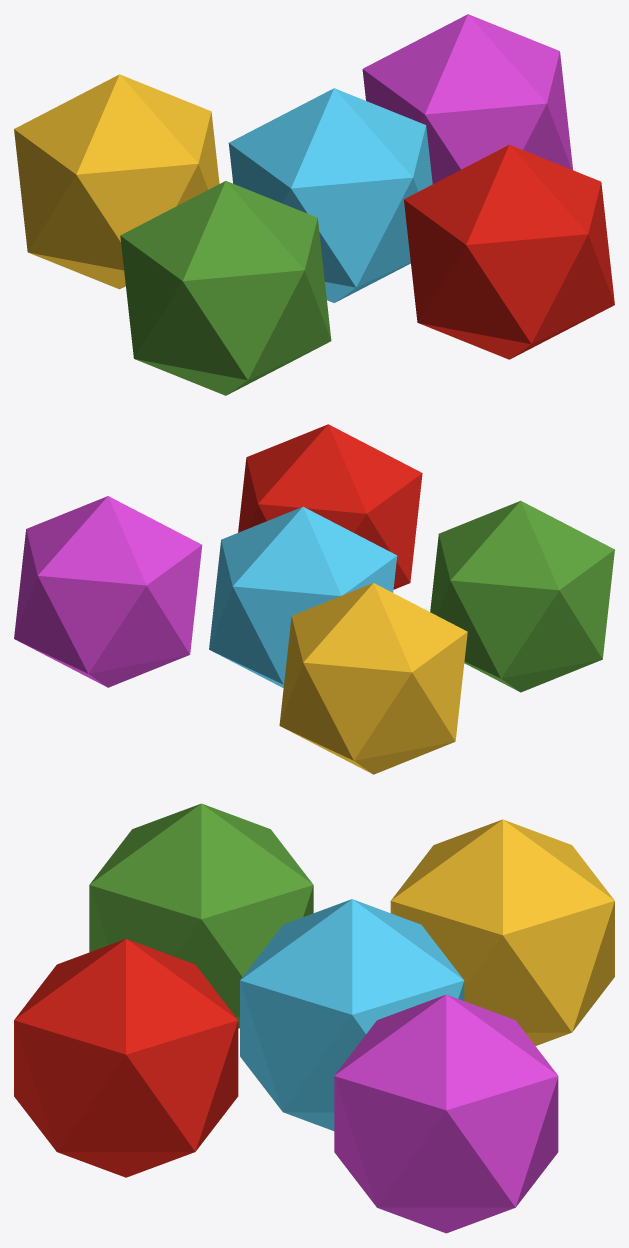
File: gem_pile.glb
The picture shows the model from 3 angles, top to bottom: view 1: azimuth 30°, elevation 25°; view 2: azimuth 150°, elevation 25°; view 3: azimuth 270°, elevation 25°; orthographic projection. The views are drawn at different scales.
Visible parts, largest first — view 1: gem_pile; view 2: gem_pile; view 3: gem_pile.
Boxes of the visible parts, x1=… form: gem_pile: x1=14, y1=14, x2=614, y2=395; gem_pile: x1=14, y1=424, x2=614, y2=774; gem_pile: x1=14, y1=803, x2=614, y2=1233.
Size of the model in its own units: 0.3652 by 0.14 by 0.3191.
